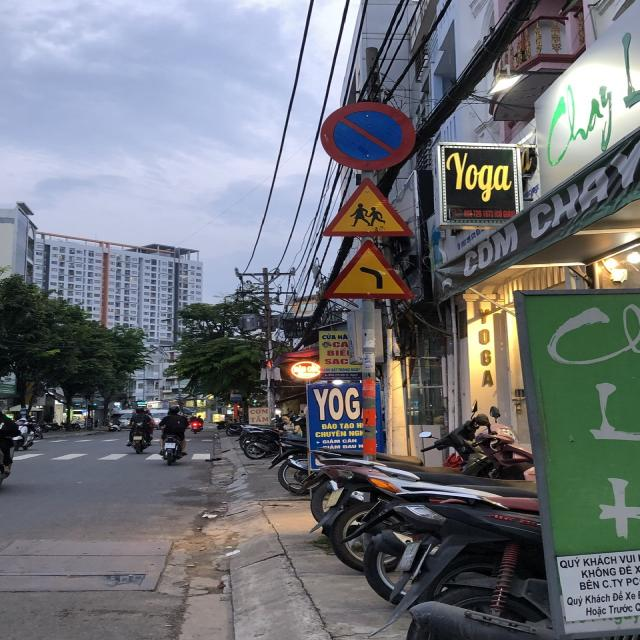Bien bao cam do xe: (316, 97, 424, 171)
Bien bao cho ngoat nguy hiem: (314, 240, 420, 304)
Bien bao tre em: (315, 178, 421, 244)
